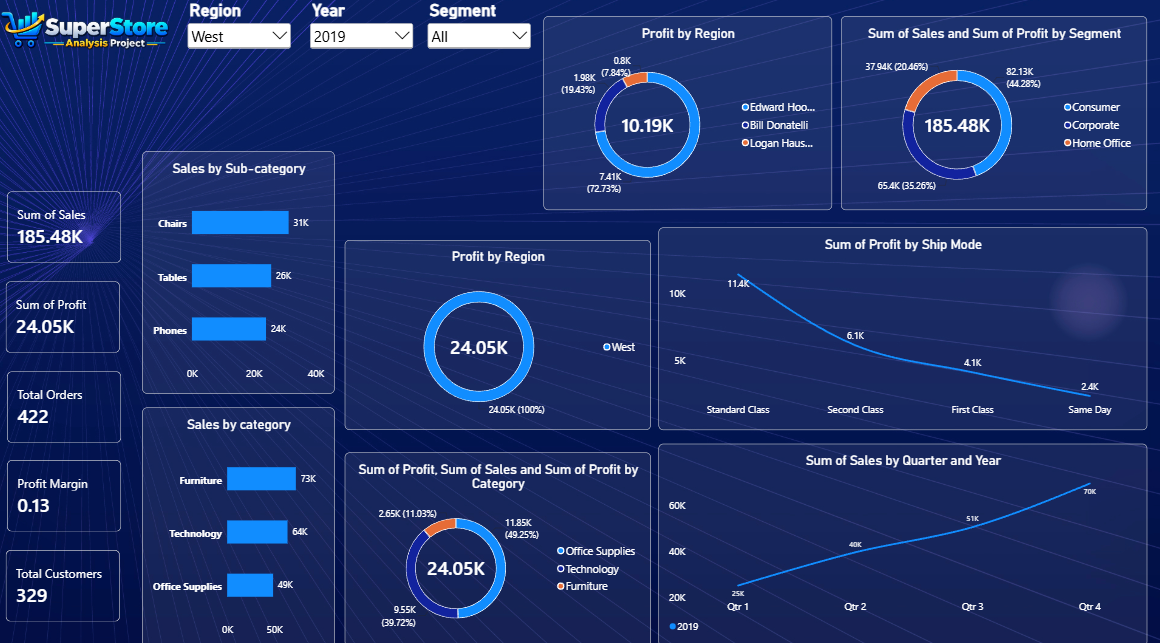

What the dashboard file says about the page in this screenshot:
{"tool":"powerbi","page":{"name":"Overview_Analysis","canvas":[1920,1080],"ordinal":1},"visuals":[{"type":"clusteredBarChart","title":"Sales by category","fields":{"Category":["SuperStore_Sales_Dataset.Category"],"Y":["Sum(SuperStore_Sales_Dataset.Sales)"]},"box":[240.8,671,317,399.3],"z":0},{"type":"clusteredBarChart","title":"Sales by Sub-category","fields":{"Category":["SuperStore_Sales_Dataset.Sub-Category"],"Y":["Sum(SuperStore_Sales_Dataset.Sales)"]},"box":[240.8,249.1,317,399.3],"z":1000},{"type":"donutChart","fields":{"Category":["SuperStore_Sales_Dataset.Category"],"Y":["Sum(SuperStore_Sales_Dataset.Profit)"]},"box":[574.3,745.1,504.3,319],"z":2000},{"type":"donutChart","title":" Profit by Region","fields":{"Category":["SuperStore_Sales_Dataset.Region"],"Y":["Sum(SuperStore_Sales_Dataset.Profit)"]},"box":[574.3,395.2,504.3,312.9],"z":3000},{"type":"cardVisual","fields":{"Data":["Sum(SuperStore_Sales_Dataset.Sales)"]},"box":[2.1,300.5,220.2,148.2],"z":4000},{"type":"cardVisual","fields":{"Data":["SuperStore_Sales_Dataset.Profit Margin"]},"box":[2.1,743.1,220.2,148.2],"z":5000},{"type":"cardVisual","fields":{"Data":["SuperStore_Sales_Dataset.Total Orders"]},"box":[2.1,596.9,220.2,148.2],"z":6000},{"type":"cardVisual","fields":{"Data":["Sum(SuperStore_Sales_Dataset.Profit)"]},"box":[0,448.7,220.2,148.2],"z":7000},{"type":"cardVisual","fields":{"Data":["SuperStore_Sales_Dataset.Total Customers"]},"box":[0,891.3,220.2,148.2],"z":8000},{"type":"lineChart","fields":{"Category":["SuperStore_Sales_Dataset.Order Date.Variation.Date Hierarchy.Quarter","SuperStore_Sales_Dataset.Order Date.Variation.Date Hierarchy.Month","SuperStore_Sales_Dataset.Order Date.Variation.Date Hierarchy.Day"],"Series":["SuperStore_Sales_Dataset.Order Date.Variation.Date Hierarchy.Year"],"Y":["Sum(SuperStore_Sales_Dataset.Sales)"]},"box":[1090.9,730.7,804.8,333.4],"z":9000},{"type":"donutChart","fields":{"Category":["SuperStore_Sales_Dataset.Segment"],"Y":["Sum(SuperStore_Sales_Dataset.Sales)"]},"box":[1391.4,26.8,504.3,319],"z":10000},{"type":"lineChart","fields":{"Category":["SuperStore_Sales_Dataset.Ship Mode"],"Y":["Sum(SuperStore_Sales_Dataset.Profit)"]},"box":[1090.9,374.6,804.8,333.4],"z":11000},{"type":"slicer","fields":{"Values":["SuperStore_Sales_Dataset.Region"]},"box":[310.2,0,179.1,94.7],"z":13000},{"type":"slicer","fields":{"Values":["SuperStore_Sales_Dataset.Segment"]},"box":[706.1,0,179.1,94.7],"z":14000},{"type":"slicer","fields":{"Values":["SuperStore_Sales_Dataset.Order Date.Variation.Date Hierarchy.Year"]},"box":[512.2,0,179.1,94.7],"z":15000},{"type":"donutChart","title":" Profit by Region","fields":{"Category":["SuperStore_Sales_Dataset.Customer Name"],"Y":["Sum(SuperStore_Sales_Dataset.Sales)"]},"box":[901.5,26.8,475.5,319],"z":16000},{"type":"image","box":[2,0,285.7,98],"z":16001}]}

Visuals, with their boxes in screenshot pixels (x1, y1, x2, y2), scaled from the page's 1920x1080 canvas onto the 1160x643 screenshot:
"Sales by category" clusteredBarChart: detection(145, 399, 337, 637)
"Sales by Sub-category" clusteredBarChart: detection(145, 148, 337, 386)
donutChart - SuperStore_Sales_Dataset.Category x Sum(SuperStore_Sales_Dataset.Profit): detection(347, 444, 652, 634)
" Profit by Region" donutChart: detection(347, 235, 652, 422)
cardVisual - Sum(SuperStore_Sales_Dataset.Sales): detection(1, 179, 134, 267)
cardVisual - SuperStore_Sales_Dataset.Profit Margin: detection(1, 442, 134, 531)
cardVisual - SuperStore_Sales_Dataset.Total Orders: detection(1, 355, 134, 444)
cardVisual - Sum(SuperStore_Sales_Dataset.Profit): detection(0, 267, 133, 355)
cardVisual - SuperStore_Sales_Dataset.Total Customers: detection(0, 531, 133, 619)
lineChart - SuperStore_Sales_Dataset.Order Date.Variation.Date Hierarchy.Quarter x SuperStore_Sales_Dataset.Order Date.Variation.Date Hierarchy.Month: detection(659, 435, 1145, 634)
donutChart - SuperStore_Sales_Dataset.Segment x Sum(SuperStore_Sales_Dataset.Sales): detection(841, 16, 1145, 206)
lineChart - SuperStore_Sales_Dataset.Ship Mode x Sum(SuperStore_Sales_Dataset.Profit): detection(659, 223, 1145, 422)
slicer - SuperStore_Sales_Dataset.Region: detection(187, 0, 296, 56)
slicer - SuperStore_Sales_Dataset.Segment: detection(427, 0, 535, 56)
slicer - SuperStore_Sales_Dataset.Order Date.Variation.Date Hierarchy.Year: detection(309, 0, 418, 56)
" Profit by Region" donutChart: detection(545, 16, 832, 206)
image: detection(1, 0, 174, 58)
